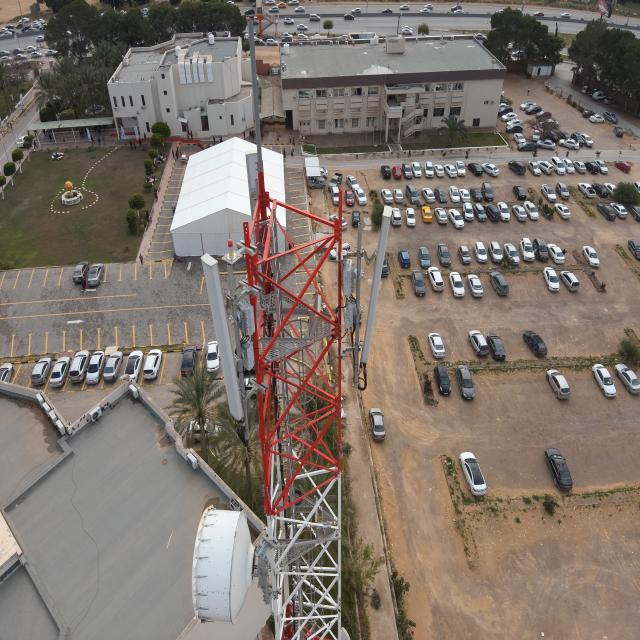Ground Based: (200, 19, 360, 640)
